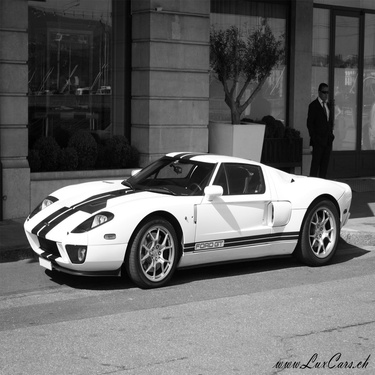car: (22, 146, 359, 296)
